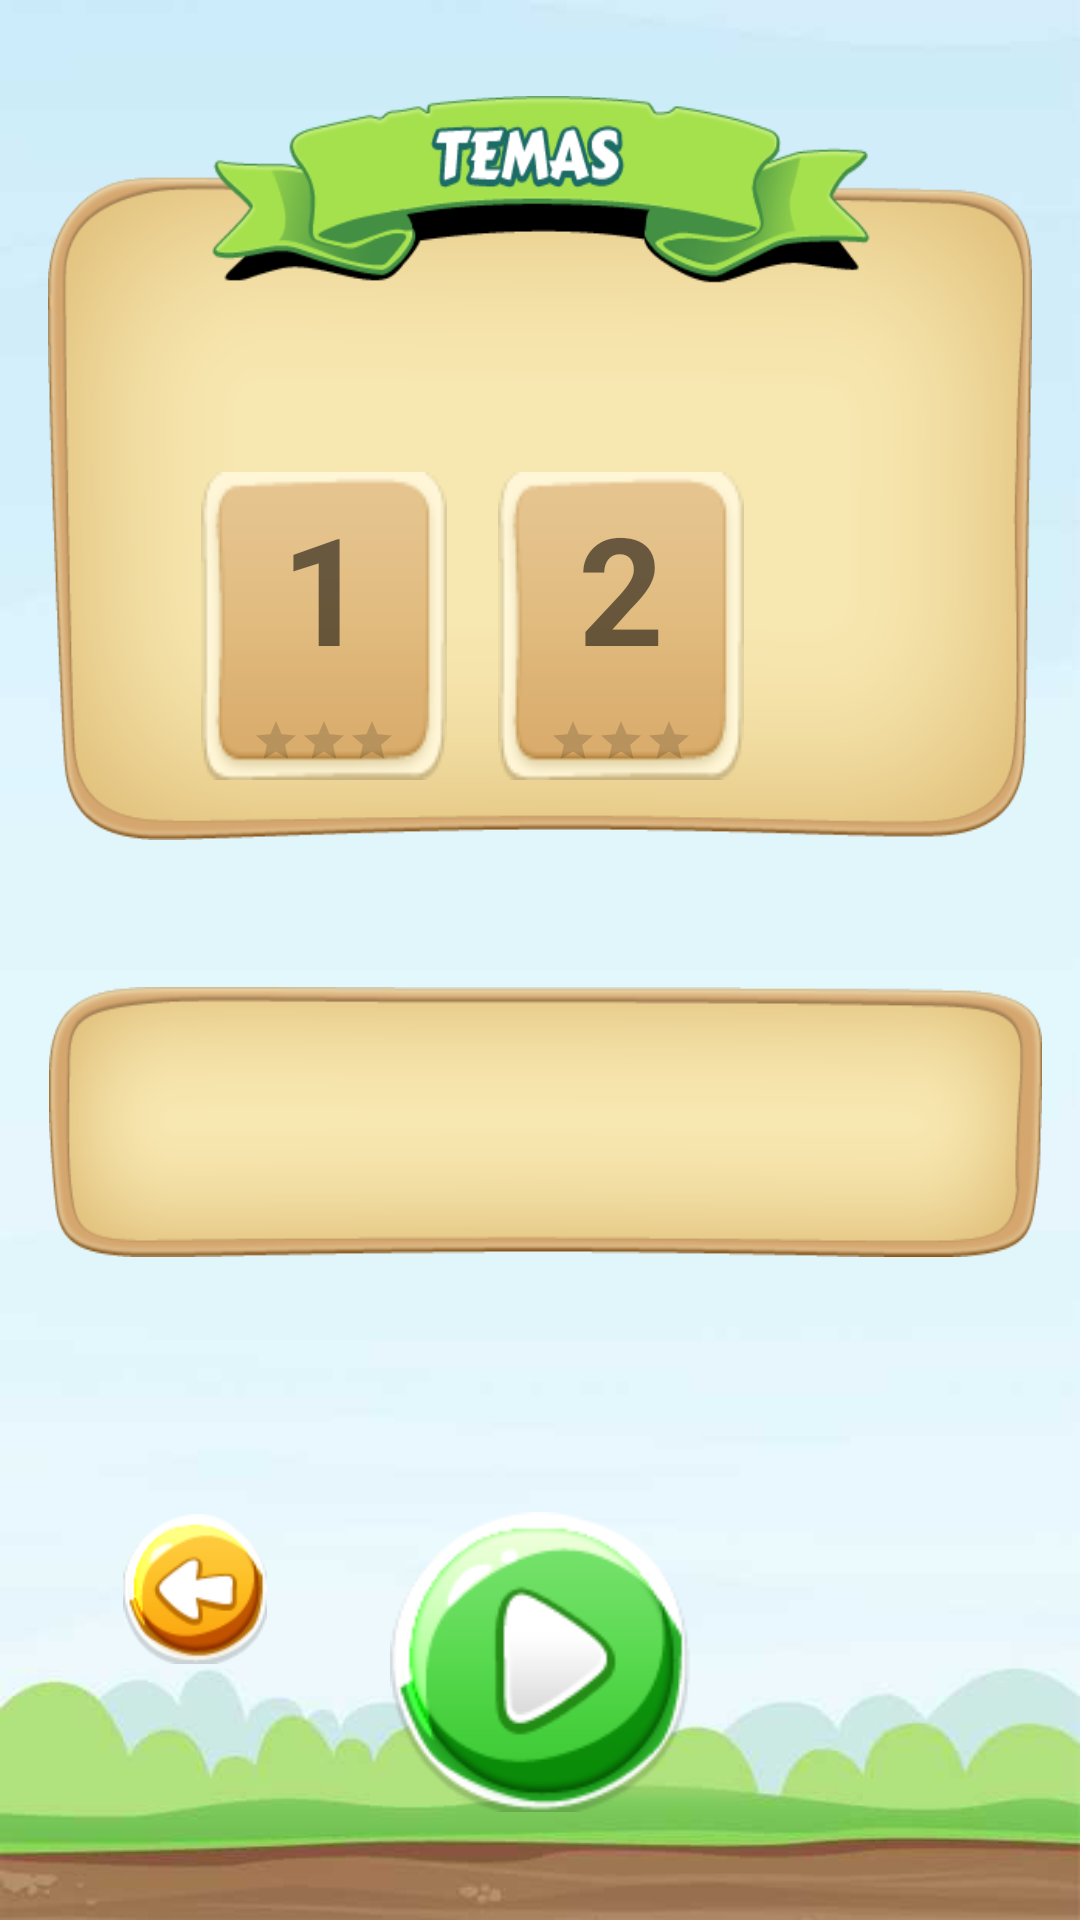

Where to tap for icons on this 1080 × 1920 app screen, as (x,y):
back: (195,1594)
play: (540,1662)
